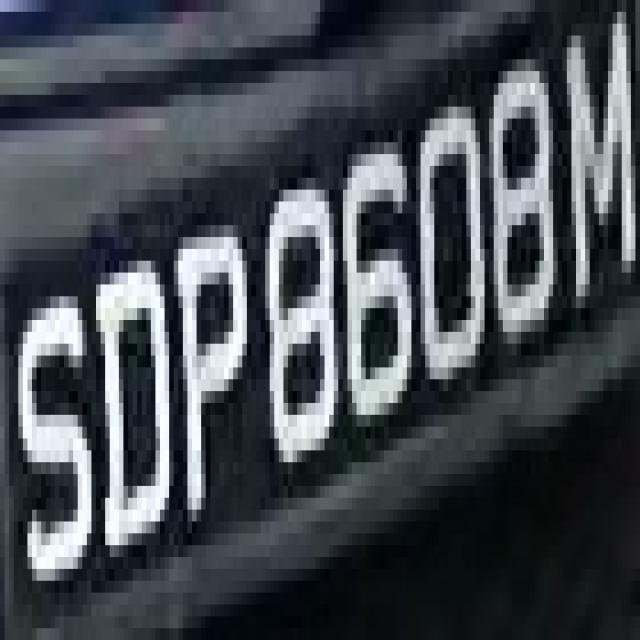0: (402, 71, 494, 379)
6: (329, 119, 421, 438)
8: (476, 24, 562, 379), (260, 166, 343, 486)
D: (96, 237, 174, 581)
M: (553, 12, 640, 355)
P: (174, 190, 251, 557)
S: (0, 272, 91, 592)
